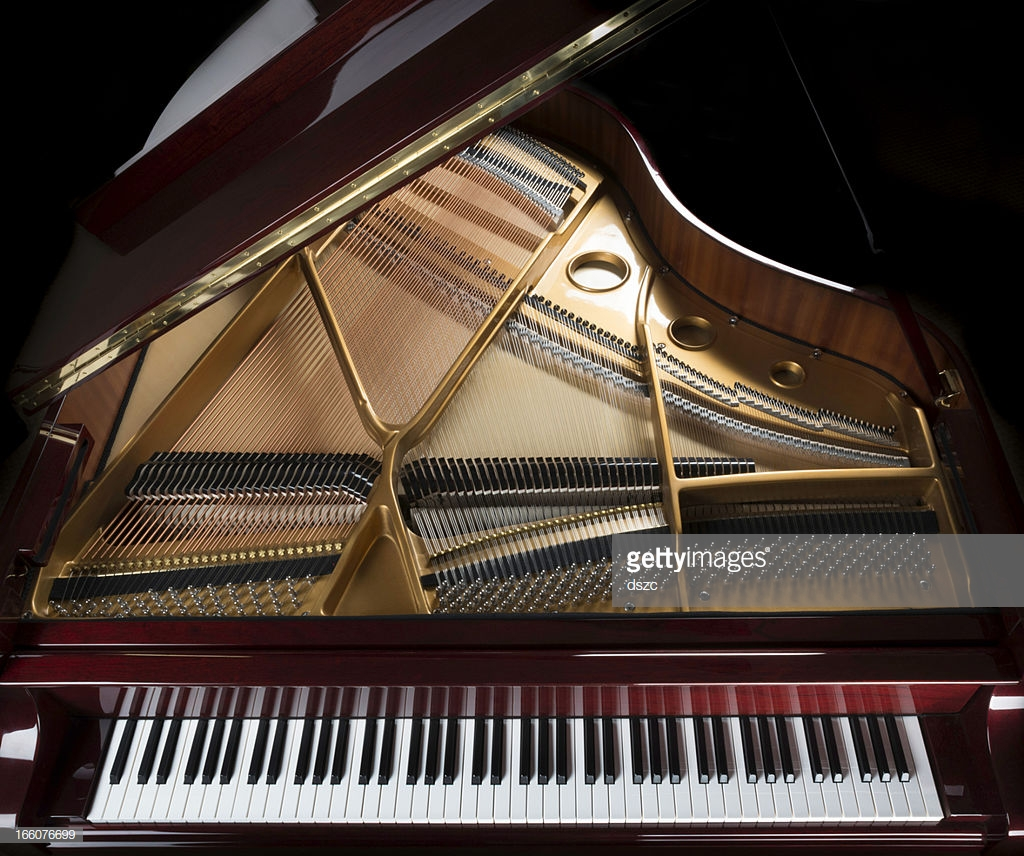GrandPiano: (43, 335, 1023, 831)
